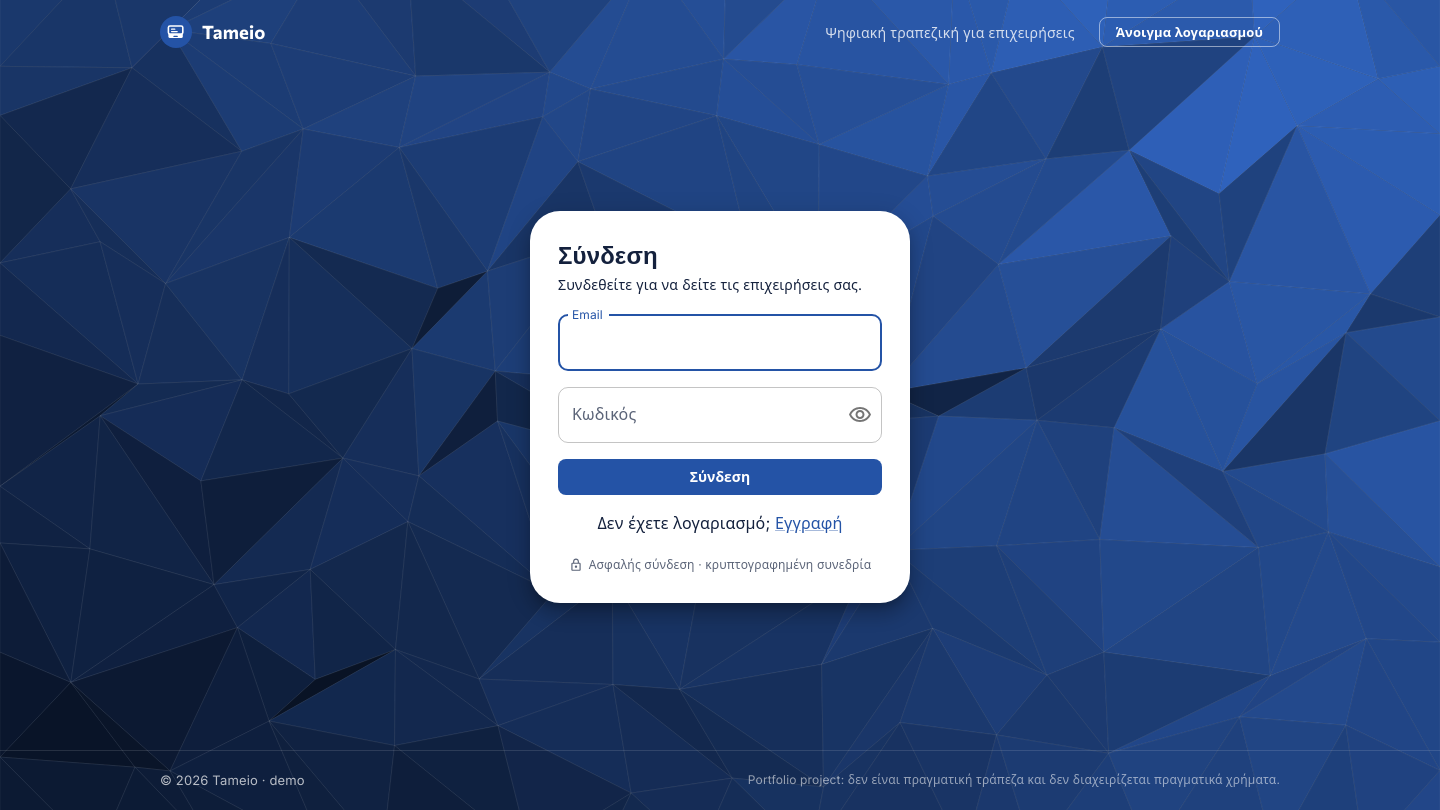
Test case: SignInPage › shows the password when asked, to check what was typed
This screenshot has width=1440, height=810.
Type "αναλψστ123" into the password field labelled "Κωδικός". click: (695, 415)
box: [558, 387, 832, 443]
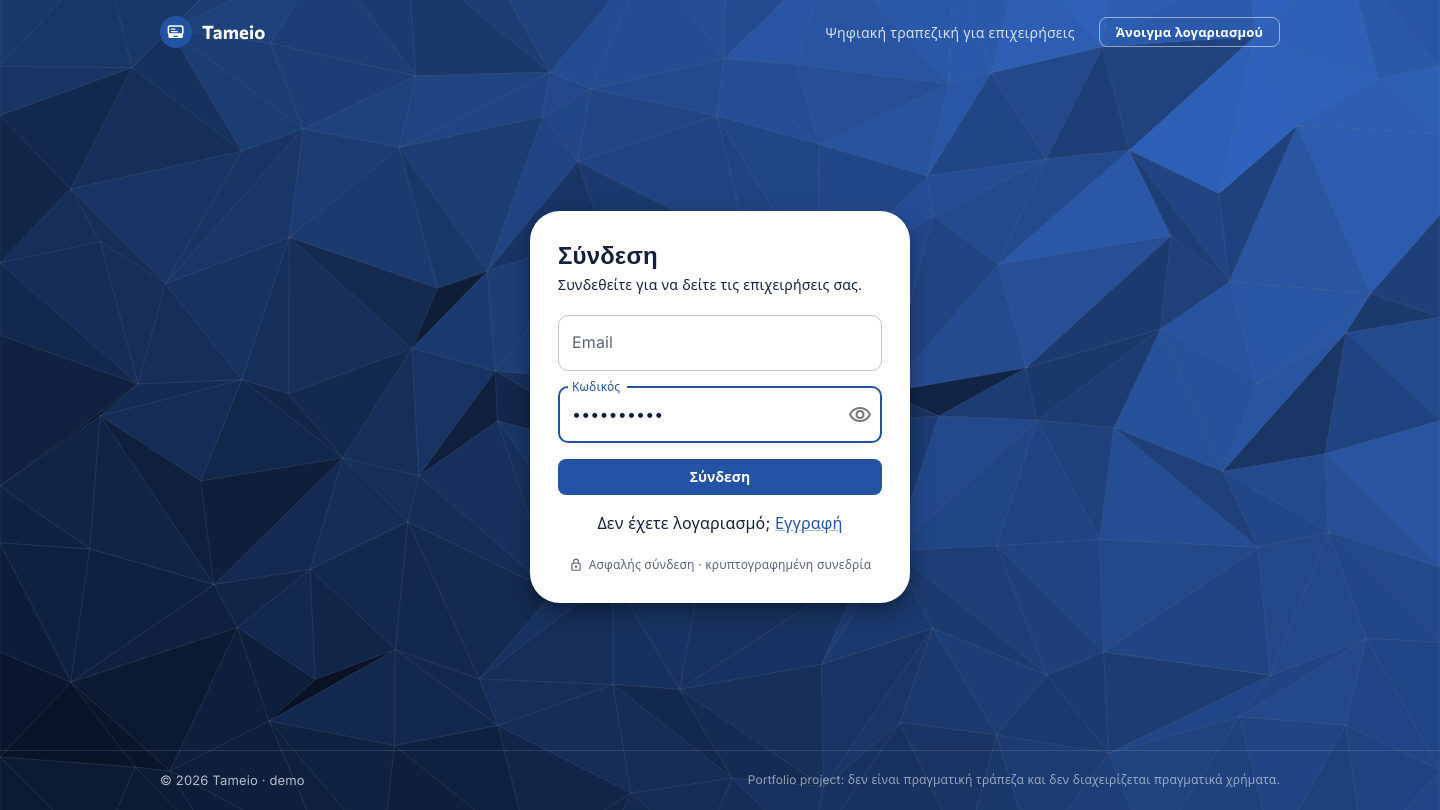
Click the button named "Εμφάνιση κωδικού". click: (860, 415)
box: [840, 395, 880, 435]
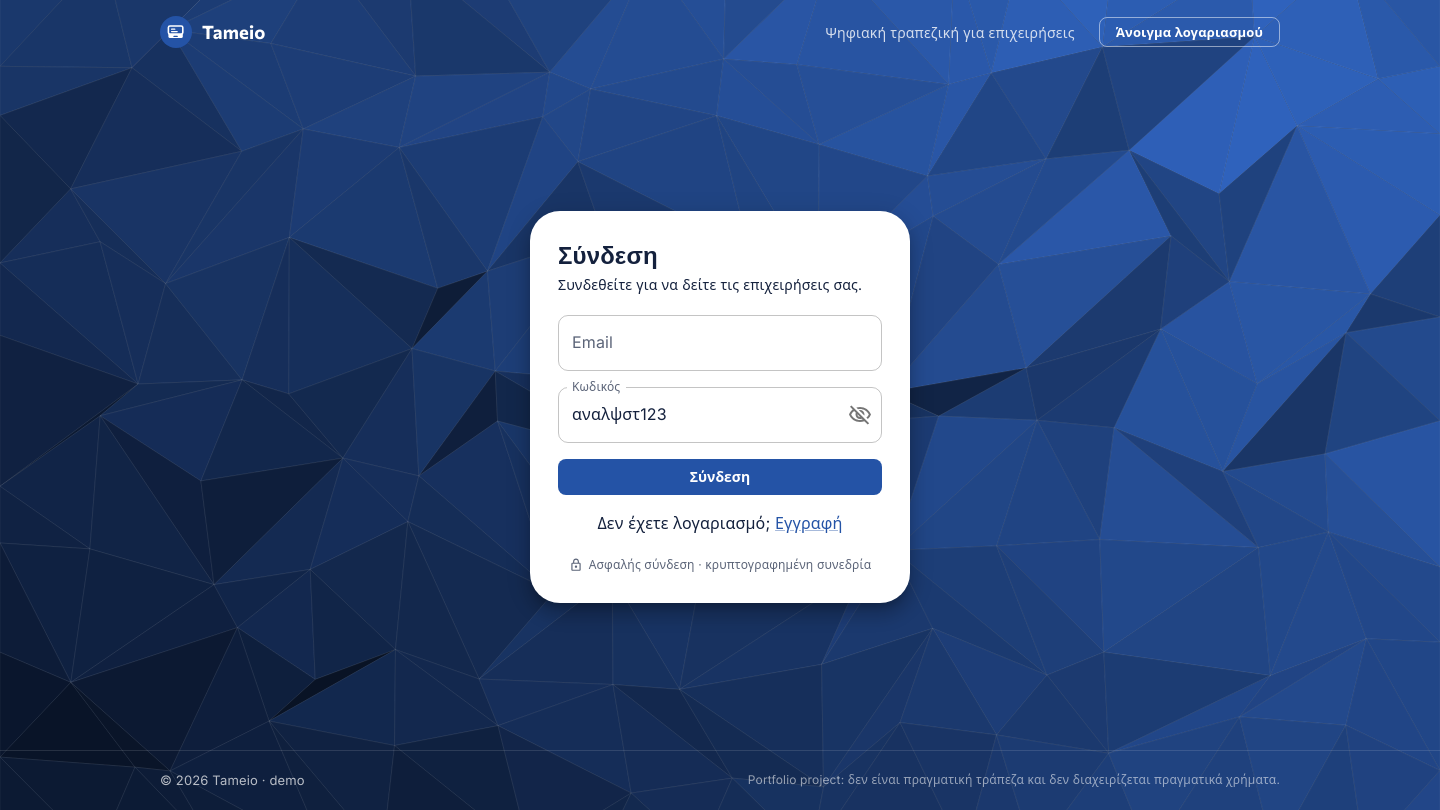
Result: the field labelled "Κωδικός" shows its text at [558, 387, 832, 443]
Click the button named "Απόκρυψη κωδικού". click: (860, 415)
box: [840, 395, 880, 435]
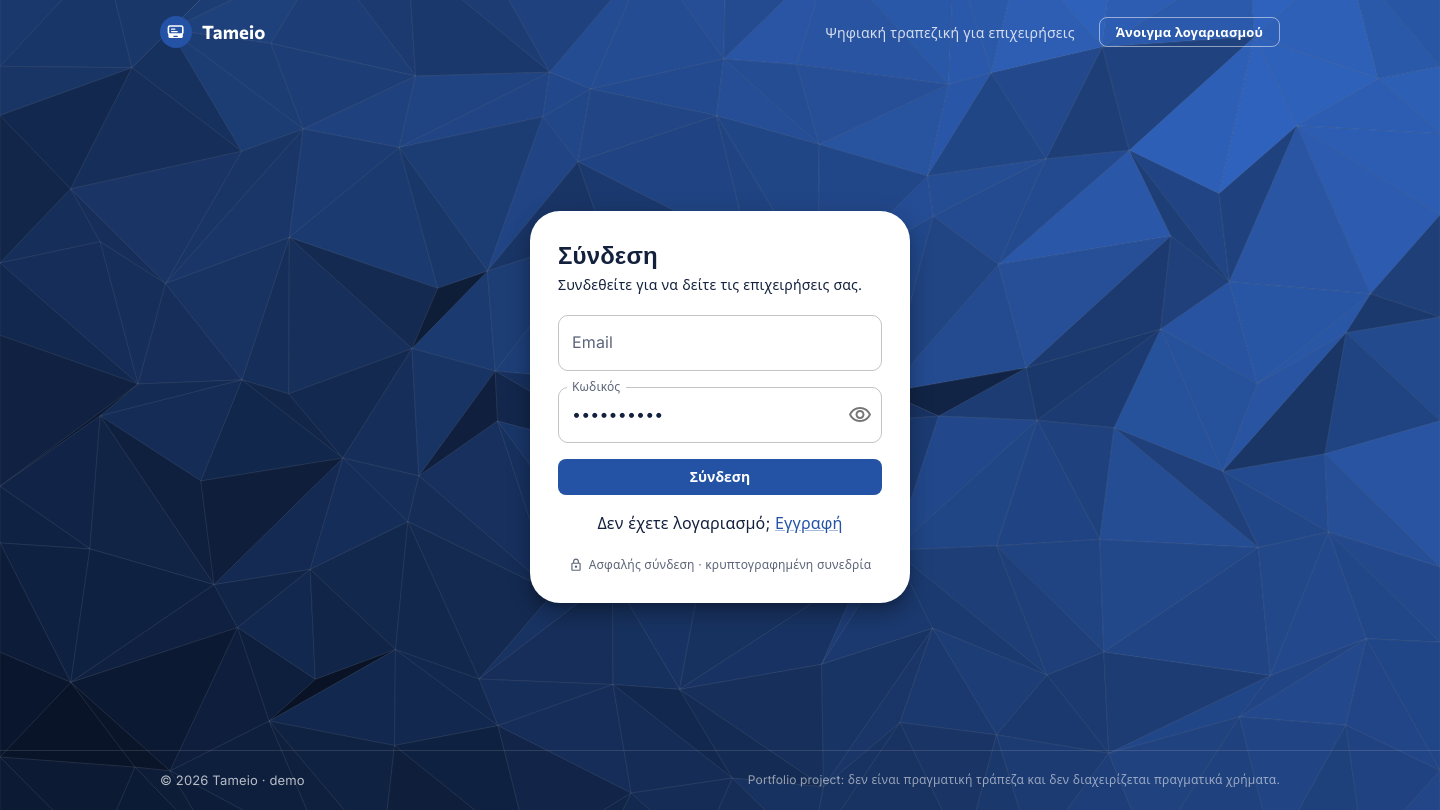
Result: the password field labelled "Κωδικός" hides its text at [558, 387, 832, 443]
